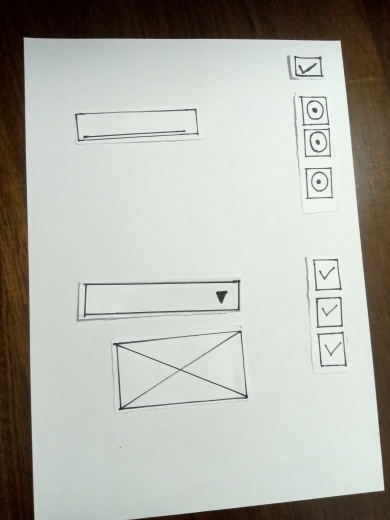checkbox: (315, 260, 343, 288), (316, 336, 344, 364), (315, 299, 343, 327), (290, 58, 325, 80)
dropdown: (81, 281, 243, 314)
img: (112, 329, 251, 408)
radio: (296, 92, 334, 127), (305, 130, 329, 157), (307, 168, 331, 195)
text: (77, 105, 198, 138)
